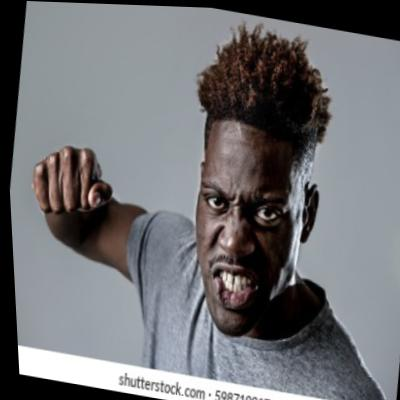angry: (157, 98, 336, 353)
